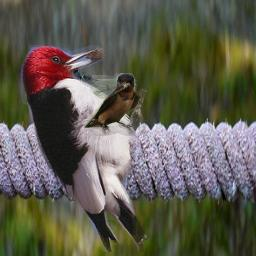Swallow: (84, 73, 139, 136)
Woodpecker: (21, 45, 149, 252)
